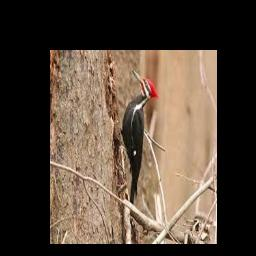Woodpecker: (121, 70, 159, 205)
